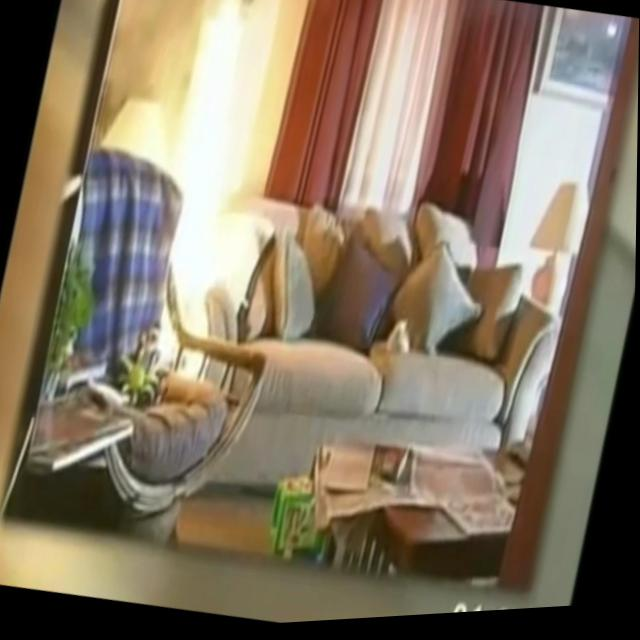fire: (126, 0, 288, 391)
